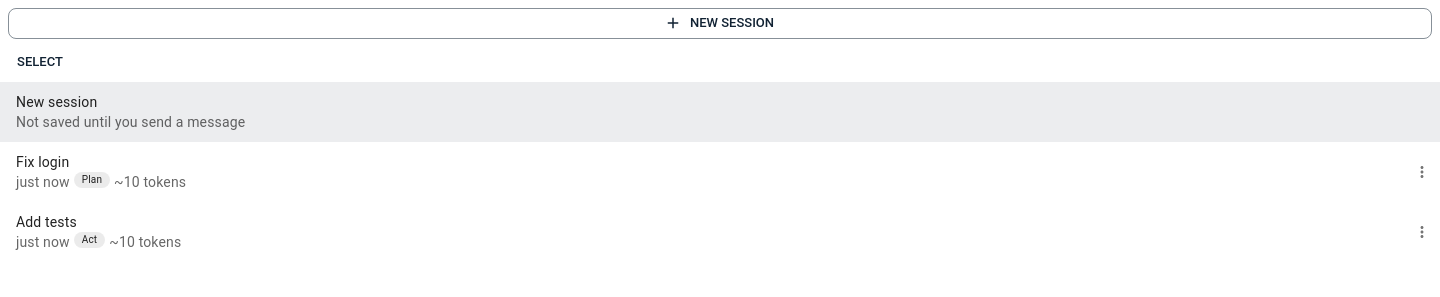
Scenario: managing the session list › choosing a row while selecting ticks it instead of opening the session
Click the button "Select". click: (40, 62)
box: x1=8 y1=47 x2=72 y2=78
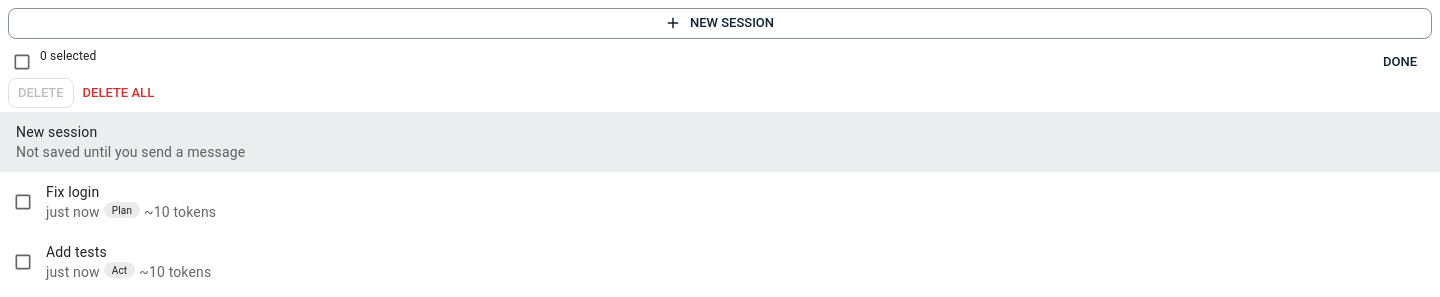
Click the button with test id "session-11". click: (115, 202)
box: x1=13 y1=184 x2=216 y2=220
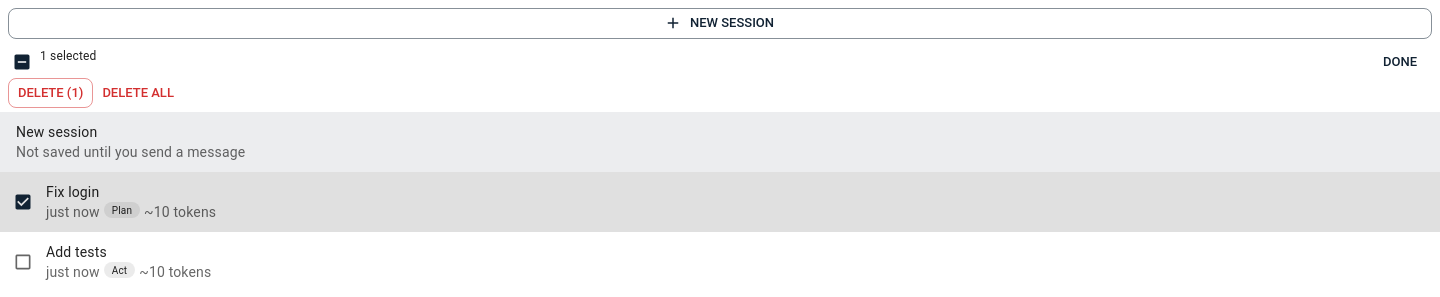
expect the text "1 selected" is shown: met, box x1=40 y1=49 x2=96 y2=63
